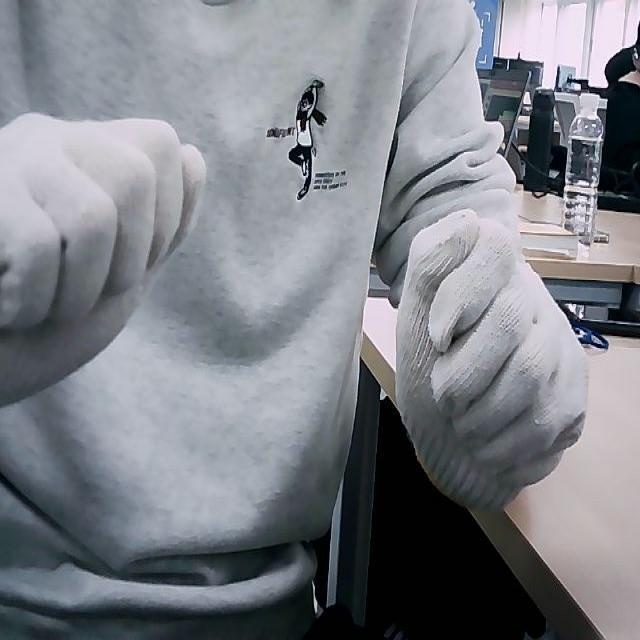Guantes: (0, 109, 208, 410), (394, 209, 590, 514)
